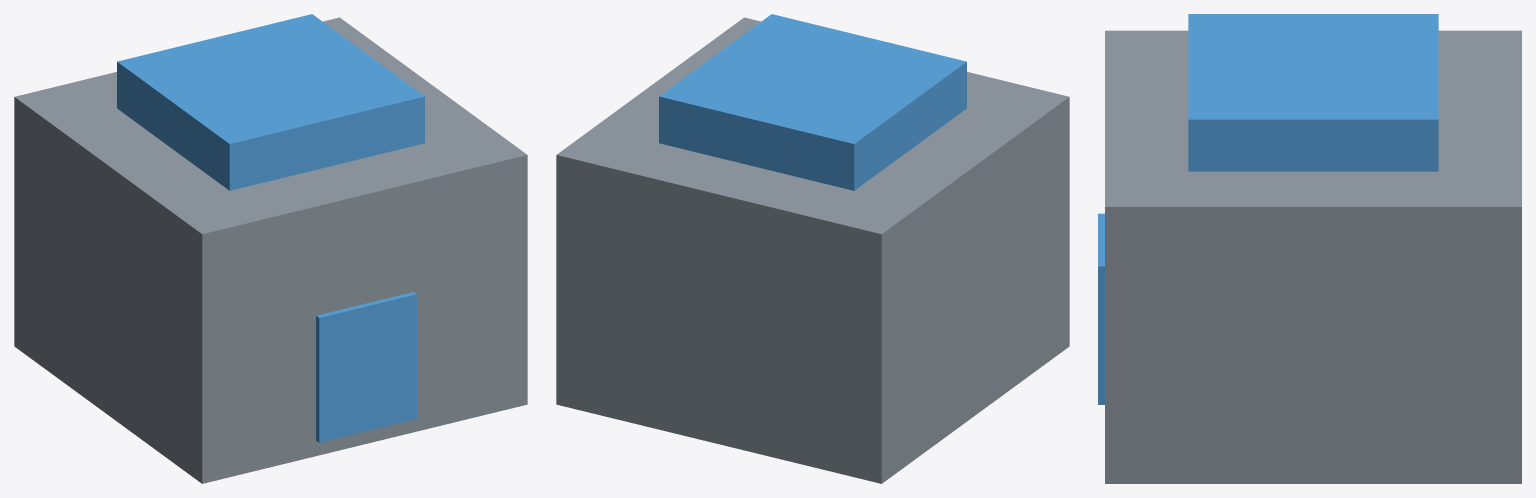
File: AL_TechCenter_LOD0.glb
3 renders of one model, left to right at view 1: azimuth 30°, elevation 25°; view 2: azimuth 150°, elevation 25°; view 3: azimuth 270°, elevation 25°, orthographic. The views are drawn at different scales.
Visible parts, largest first — view 1: EntranceGate; view 2: EntranceGate; view 3: EntranceGate.
Boxes of the visible parts, x1,y1,x2,y2 form: EntranceGate: (14, 14, 527, 483); EntranceGate: (556, 14, 1069, 483); EntranceGate: (1098, 14, 1521, 483).
Size of the model in its own units: 600 by 523 by 610.
